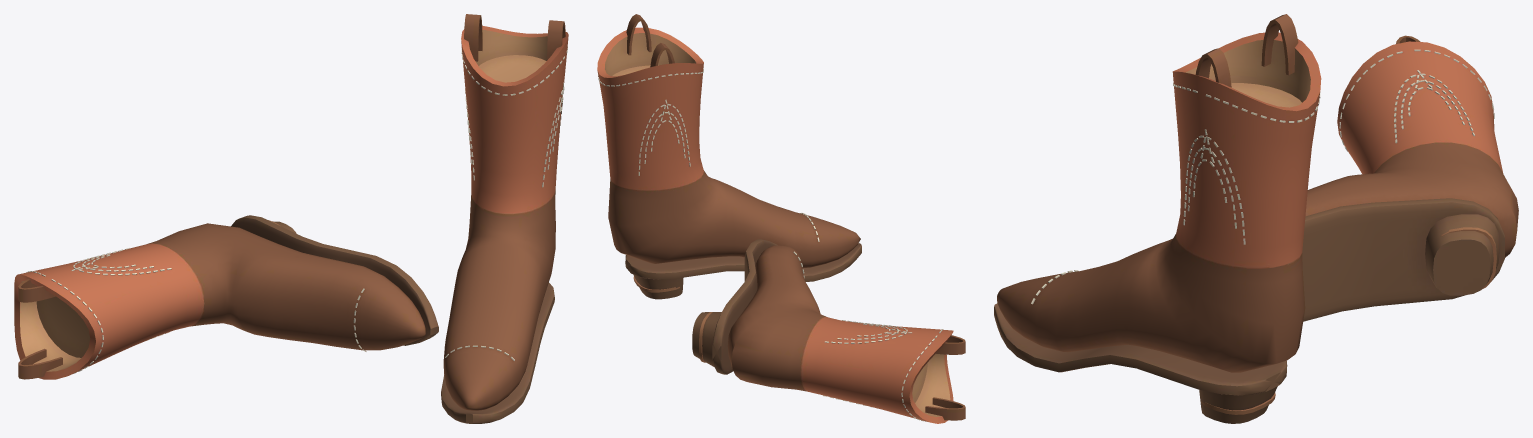
File: cowboy-boots.glb
The picture shows the model from 3 angles, left to right: view 1: azimuth 30°, elevation 25°; view 2: azimuth 150°, elevation 25°; view 3: azimuth 270°, elevation 25°; orthographic projection. The views are drawn at different scales.
Visible parts, largest first — view 1: cowboy-boots_body; view 2: cowboy-boots_body; view 3: cowboy-boots_body.
Part boxes in pixels (left/top/right/bottom): cowboy-boots_body: left=14, top=14, right=568, bottom=423; cowboy-boots_body: left=597, top=14, right=965, bottom=423; cowboy-boots_body: left=994, top=14, right=1518, bottom=423.
Bounding box in the file's own units: 0.6139 × 0.372 × 0.4643.
1 material, 1 textured.
